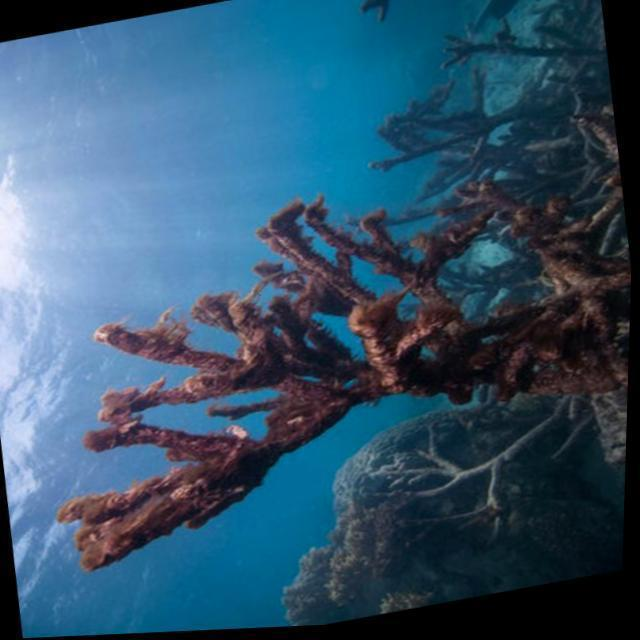Dead Coral: (10, 131, 626, 596)
